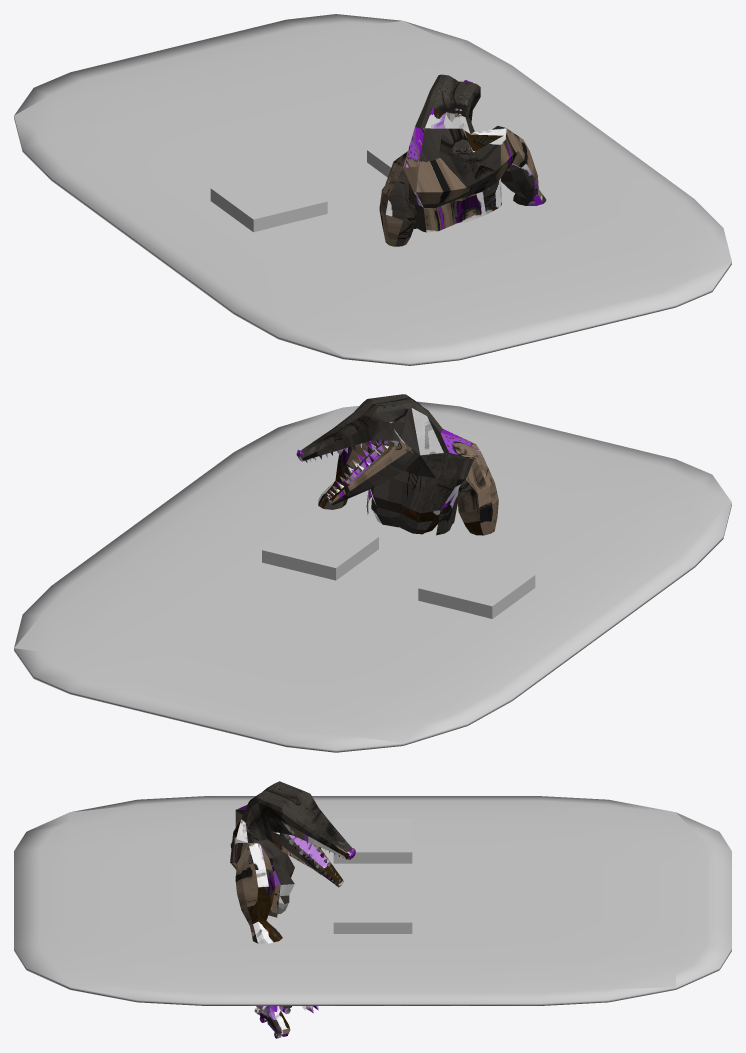
File: cocodrilaBonesSelect_000043.obj
3 views of the same model, one above another, from view 1: azimuth 30°, elevation 25°; view 2: azimuth 150°, elevation 25°; view 3: azimuth 270°, elevation 25° (orthographic). The views are drawn at different scales.
Visible parts, largest first — view 1: Mball, Crocodile.002_Cylinder.002, Cube, Cube.001; view 2: Mball, Crocodile.002_Cylinder.002, Cube, Cube.001; view 3: Mball, Crocodile.002_Cylinder.002, Cube.001, Cube.
Part boxes in pixels (x1,y1,x2,y2): Mball: [14, 14, 731, 365]; Crocodile.002_Cylinder.002: [379, 74, 546, 246]; Cube: [210, 170, 327, 232]; Cube.001: [367, 139, 411, 177]; Mball: [14, 401, 731, 752]; Crocodile.002_Cylinder.002: [296, 394, 498, 535]; Cube: [418, 557, 535, 618]; Cube.001: [262, 519, 378, 580]; Mball: [14, 796, 731, 1005]; Crocodile.002_Cylinder.002: [230, 781, 355, 1038]; Cube.001: [333, 889, 412, 933]; Cube: [333, 819, 412, 863].
Bounding box in the file's own units: 12.42 × 6.7 × 18.18.
